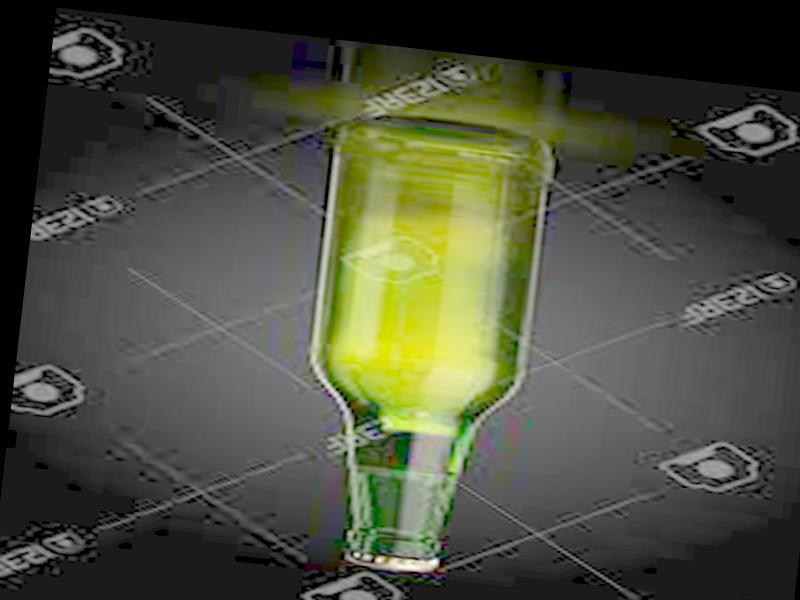Beer: (283, 111, 547, 582)
